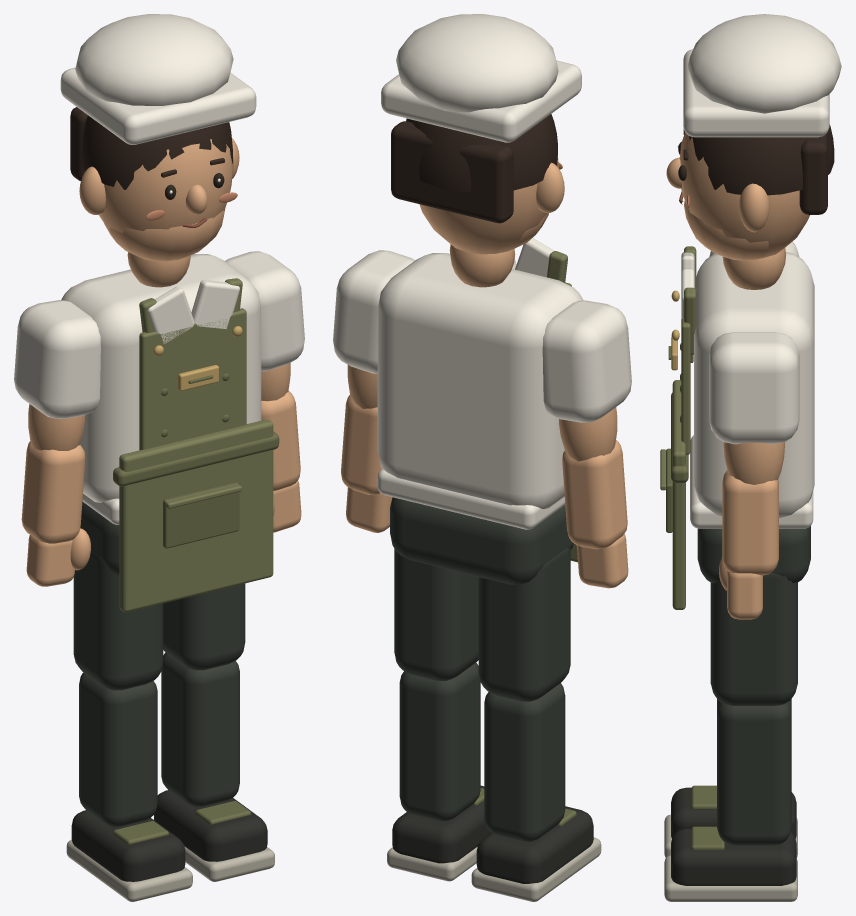
The model's file is chef.glb.
3 views of the same model, side by side, from view 1: azimuth 30°, elevation 25°; view 2: azimuth 150°, elevation 25°; view 3: azimuth 270°, elevation 25° (orthographic). The views are drawn at different scales.
Parts seen in each view (by area): view 1: Spine_crew_apron, Spine_crew_shirt, Head_crew_shirt, Head_crew_skin, LeftKnee_crew_trousers, RightKnee_crew_trousers, LeftShoulder_crew_shirt, LeftHip_crew_trousers, Spine_crew_seam, Head_crew_hair, RightHip_crew_trousers, LeftElbow_crew_skin (+15 smaller); view 2: Spine_crew_shirt, Head_crew_shirt, Head_crew_hair, LeftKnee_crew_trousers, RightKnee_crew_trousers, LeftHip_crew_trousers, Hips_crew_trousers, LeftShoulder_crew_shirt, RightHip_crew_trousers, LeftElbow_crew_skin, Head_crew_skin, RightShoulder_crew_shirt (+11 smaller); view 3: Spine_crew_shirt, Head_crew_shirt, RightKnee_crew_trousers, RightShoulder_crew_shirt, RightHip_crew_trousers, Head_crew_skin, Head_crew_hair, RightAnkle_crew_shoes, RightElbow_crew_skin, Spine_crew_apron, Hips_crew_trousers, RightAnkle_crew_soles (+7 smaller).
Boxes of the visible parts, x1,y1,x2,y2 form: Spine_crew_apron: (119, 278, 273, 612); Spine_crew_shirt: (61, 254, 261, 524); Head_crew_shirt: (60, 14, 256, 144); Head_crew_skin: (79, 138, 239, 261); LeftKnee_crew_trousers: (79, 672, 157, 826); RightKnee_crew_trousers: (161, 652, 239, 806); LeftShoulder_crew_shirt: (14, 300, 100, 418); LeftHip_crew_trousers: (73, 551, 163, 690); Spine_crew_seam: (113, 373, 279, 548); Head_crew_hair: (70, 107, 232, 189); RightHip_crew_trousers: (163, 583, 245, 670); LeftElbow_crew_skin: (21, 441, 85, 543); Spine_crew_shirt: (377, 238, 583, 529); Head_crew_shirt: (381, 14, 581, 142); Head_crew_hair: (391, 114, 557, 223); LeftKnee_crew_trousers: (484, 683, 565, 841); RightKnee_crew_trousers: (399, 662, 480, 821); LeftHip_crew_trousers: (478, 548, 570, 701); Hips_crew_trousers: (390, 497, 573, 584); LeftShoulder_crew_shirt: (542, 300, 631, 422); RightHip_crew_trousers: (394, 549, 478, 680); LeftElbow_crew_skin: (562, 440, 627, 549); Head_crew_skin: (419, 155, 564, 254); RightShoulder_crew_shirt: (333, 250, 415, 373); Spine_crew_shirt: (681, 252, 814, 528); Head_crew_shirt: (683, 14, 841, 137); RightKnee_crew_trousers: (717, 700, 791, 845); RightShoulder_crew_shirt: (709, 332, 799, 444); RightHip_crew_trousers: (710, 573, 797, 705); Head_crew_skin: (666, 132, 809, 260); Head_crew_hair: (683, 124, 834, 214); RightAnkle_crew_shoes: (671, 828, 796, 885); RightElbow_crew_skin: (722, 470, 778, 575); Spine_crew_apron: (660, 246, 696, 609); Hips_crew_trousers: (697, 526, 810, 583); RightAnkle_crew_soles: (664, 855, 797, 901).
Size of the model in its own units: 0.6081 by 1.81 by 0.353.
